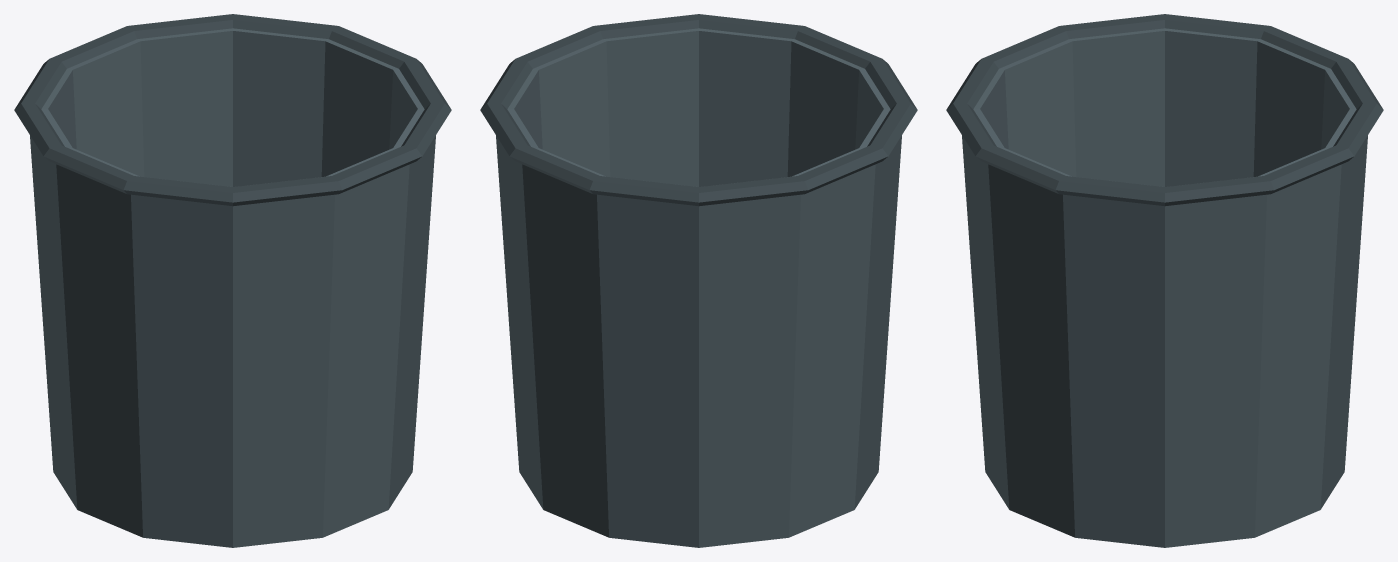
The model's file is Bin_Empty.fbx.
3 renders of one model, left to right at view 1: azimuth 30°, elevation 25°; view 2: azimuth 150°, elevation 25°; view 3: azimuth 270°, elevation 25°, orthographic.
Parts seen in each view (by area): view 1: Bin_Empty, Bin_Empty_Rim; view 2: Bin_Empty, Bin_Empty_Rim; view 3: Bin_Empty, Bin_Empty_Rim.
Boxes of the visible parts, box(x1,y1,x2,y2) form: Bin_Empty: box(30, 28, 435, 547); Bin_Empty_Rim: box(14, 14, 451, 206); Bin_Empty: box(496, 28, 901, 547); Bin_Empty_Rim: box(480, 14, 917, 206); Bin_Empty: box(962, 28, 1367, 547); Bin_Empty_Rim: box(946, 14, 1383, 206).
Size of the model in its own units: 1.1 by 1.02 by 1.1.
